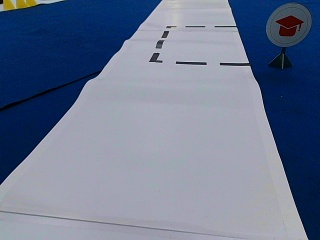school: (266, 3, 311, 46)
